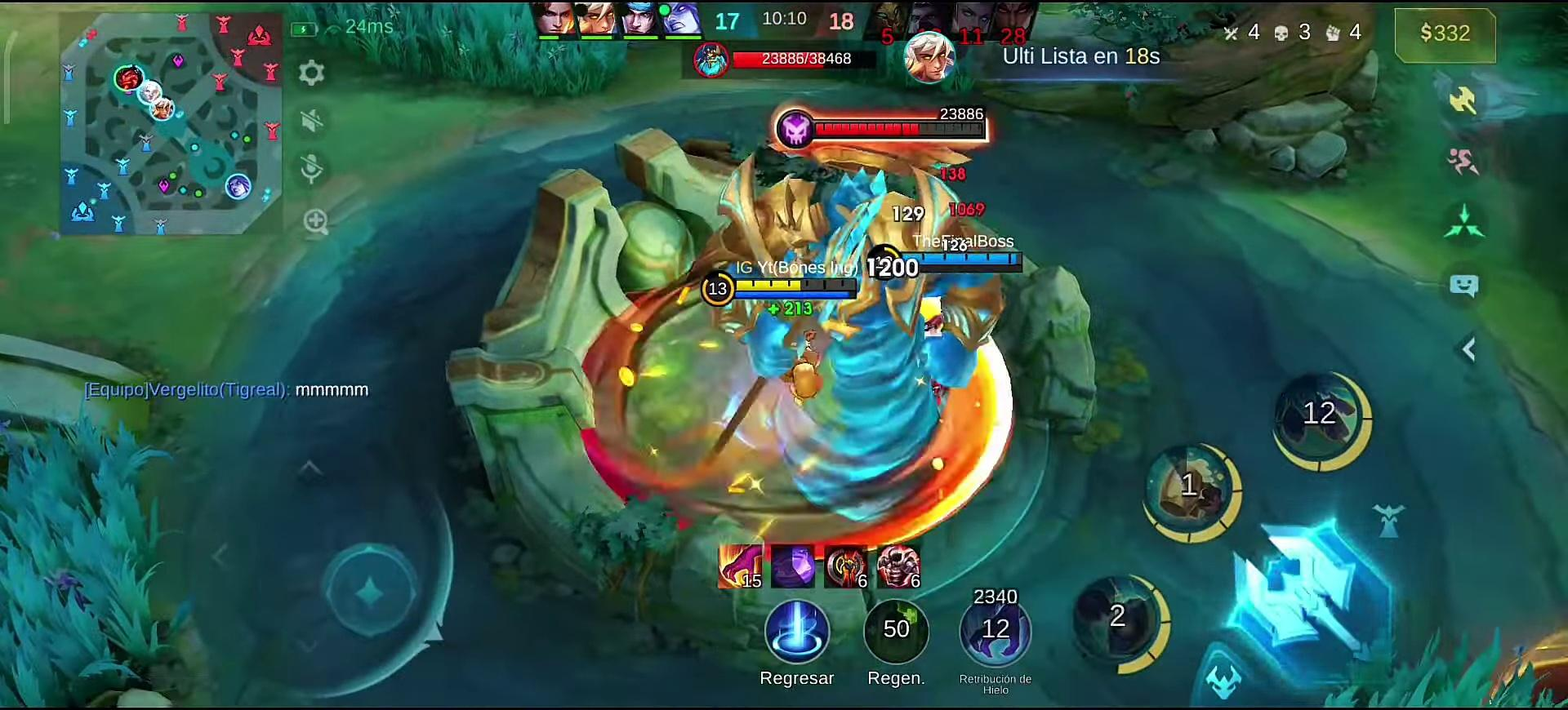bush: (0, 409, 179, 702), (285, 2, 619, 93), (1326, 624, 1558, 705)
hp_self: (738, 279, 858, 289)
